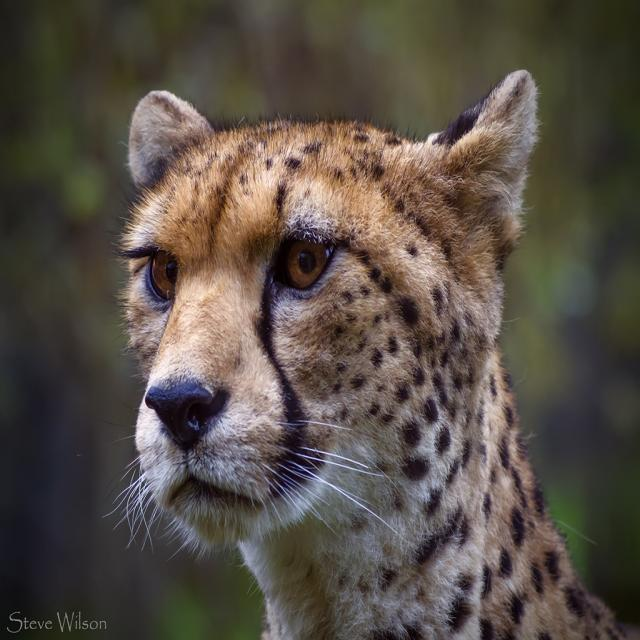Cheetah: (102, 71, 639, 640)
